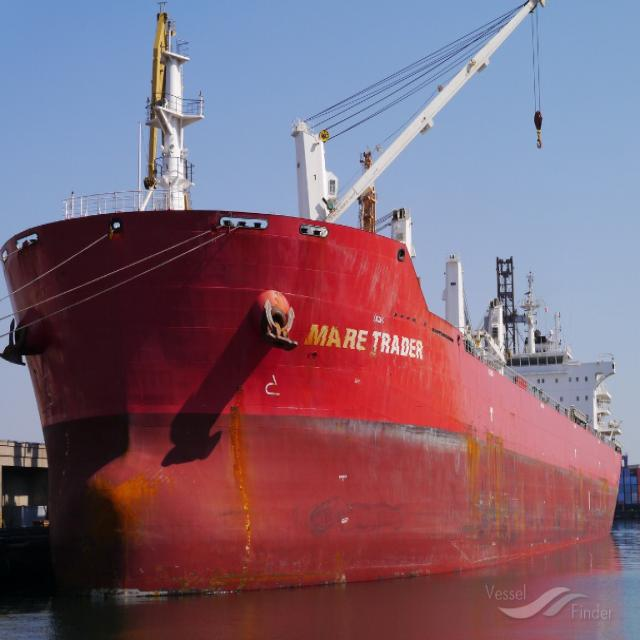OCR: (304, 317, 430, 367)
